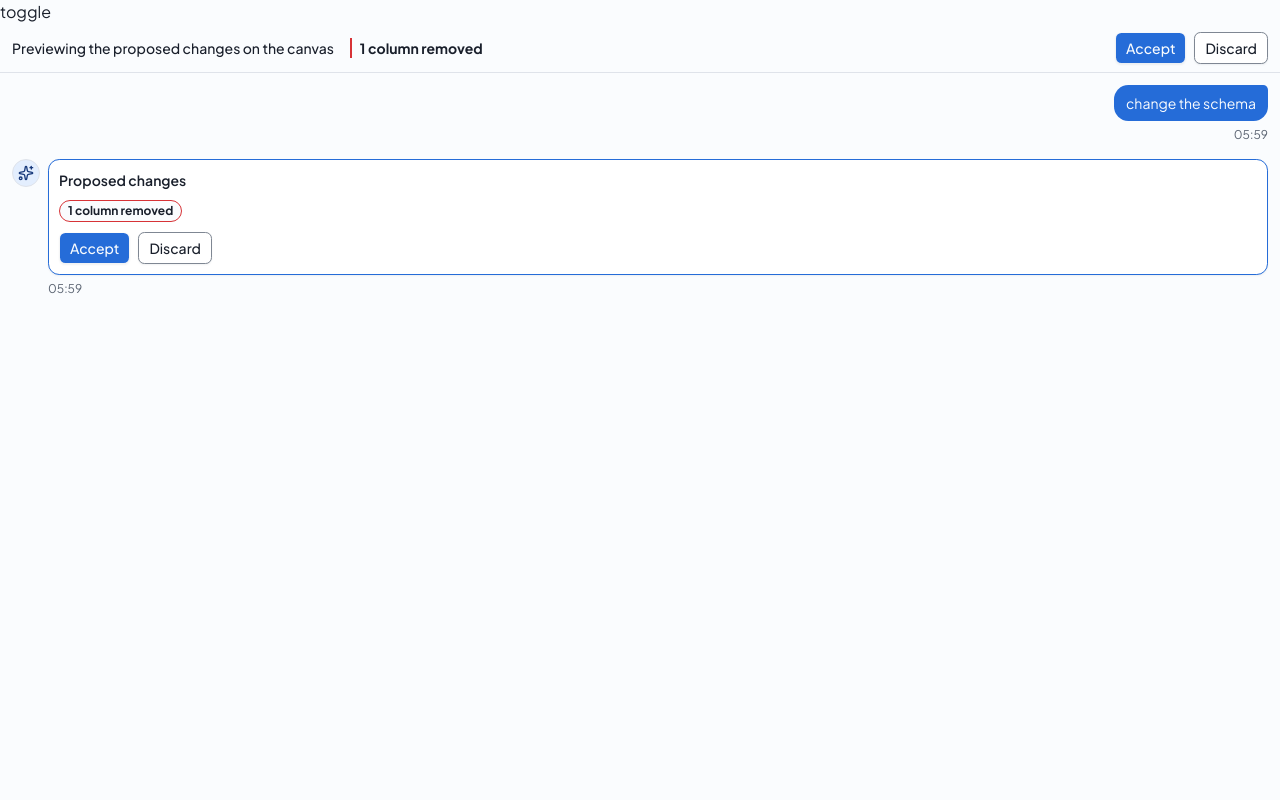
ProposalPreviewBar › asks for confirmation when tables or columns are removed
Click the 1st button "Accept" at (1151, 48), box [1115, 32, 1186, 64]
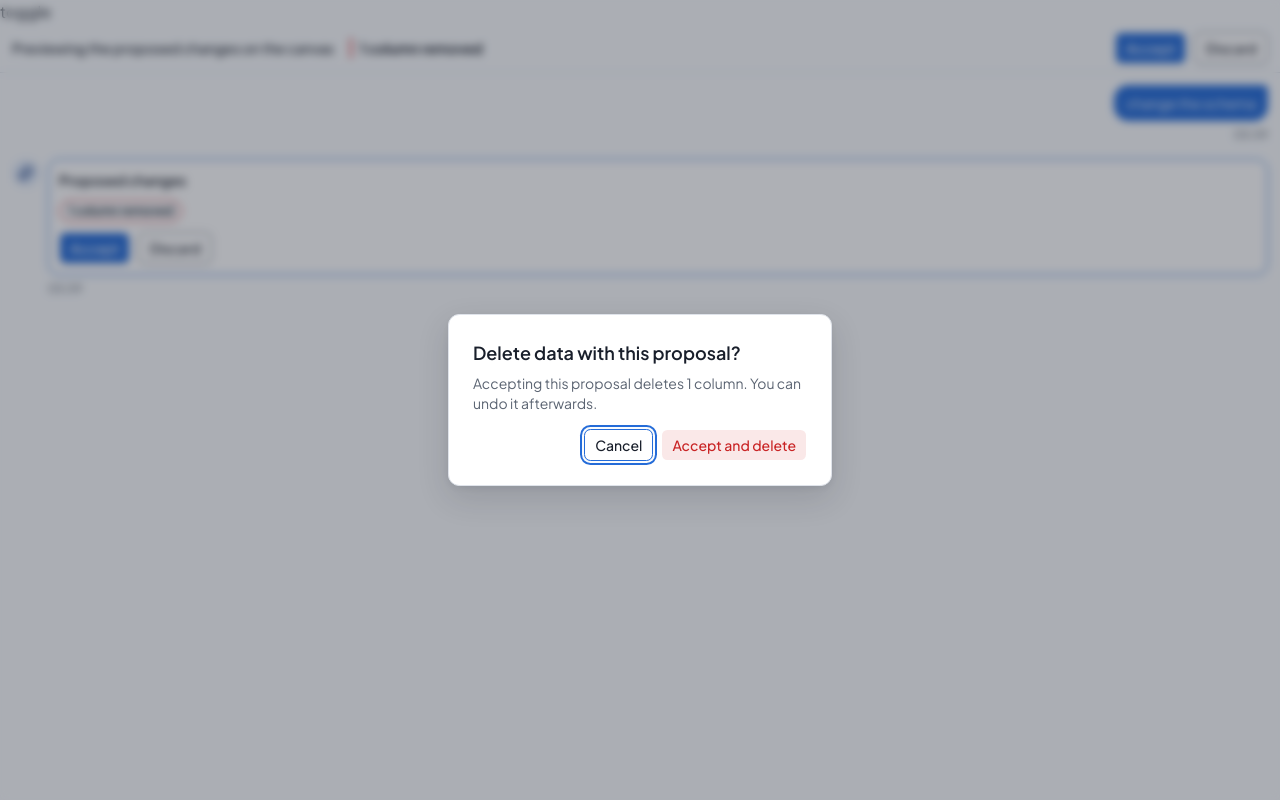
Now the dialog "Delete data with this proposal?" is shown, box [448, 314, 832, 486]
